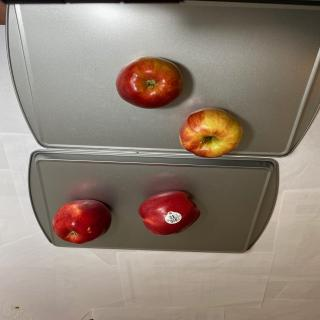Apple: (115, 56, 183, 109), (179, 107, 243, 158), (138, 190, 201, 236), (52, 199, 112, 244)
